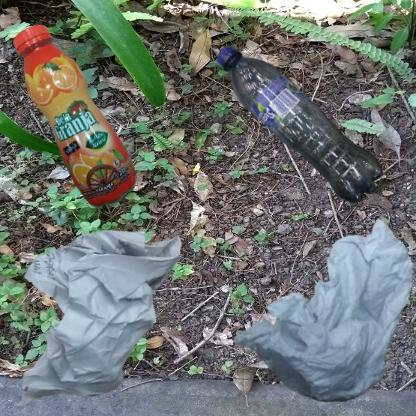botella: (213, 10, 416, 272), (10, 10, 160, 249)
papel: (213, 213, 416, 416), (10, 213, 187, 416)
